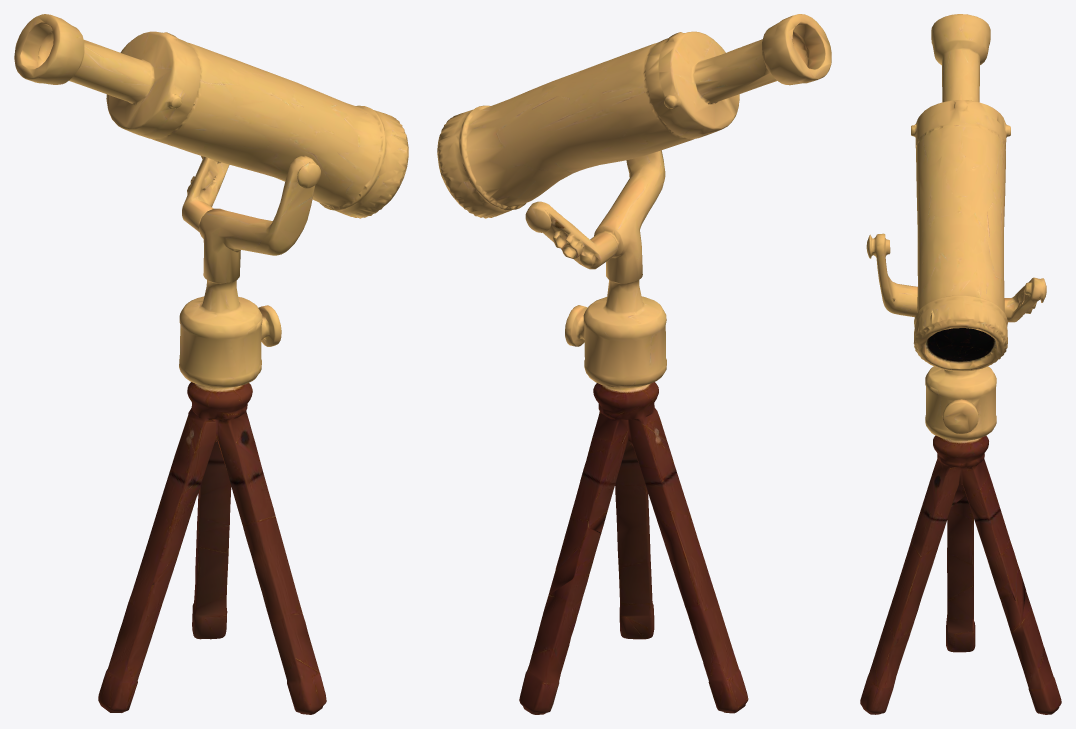
File: telescope.glb
3 views of the same model, side by side, from view 1: azimuth 30°, elevation 25°; view 2: azimuth 150°, elevation 25°; view 3: azimuth 270°, elevation 25° (orthographic). The views are drawn at different scales.
Size of the model in its own units: 1.06 by 1.91 by 0.5708.
1 material, 1 textured.
